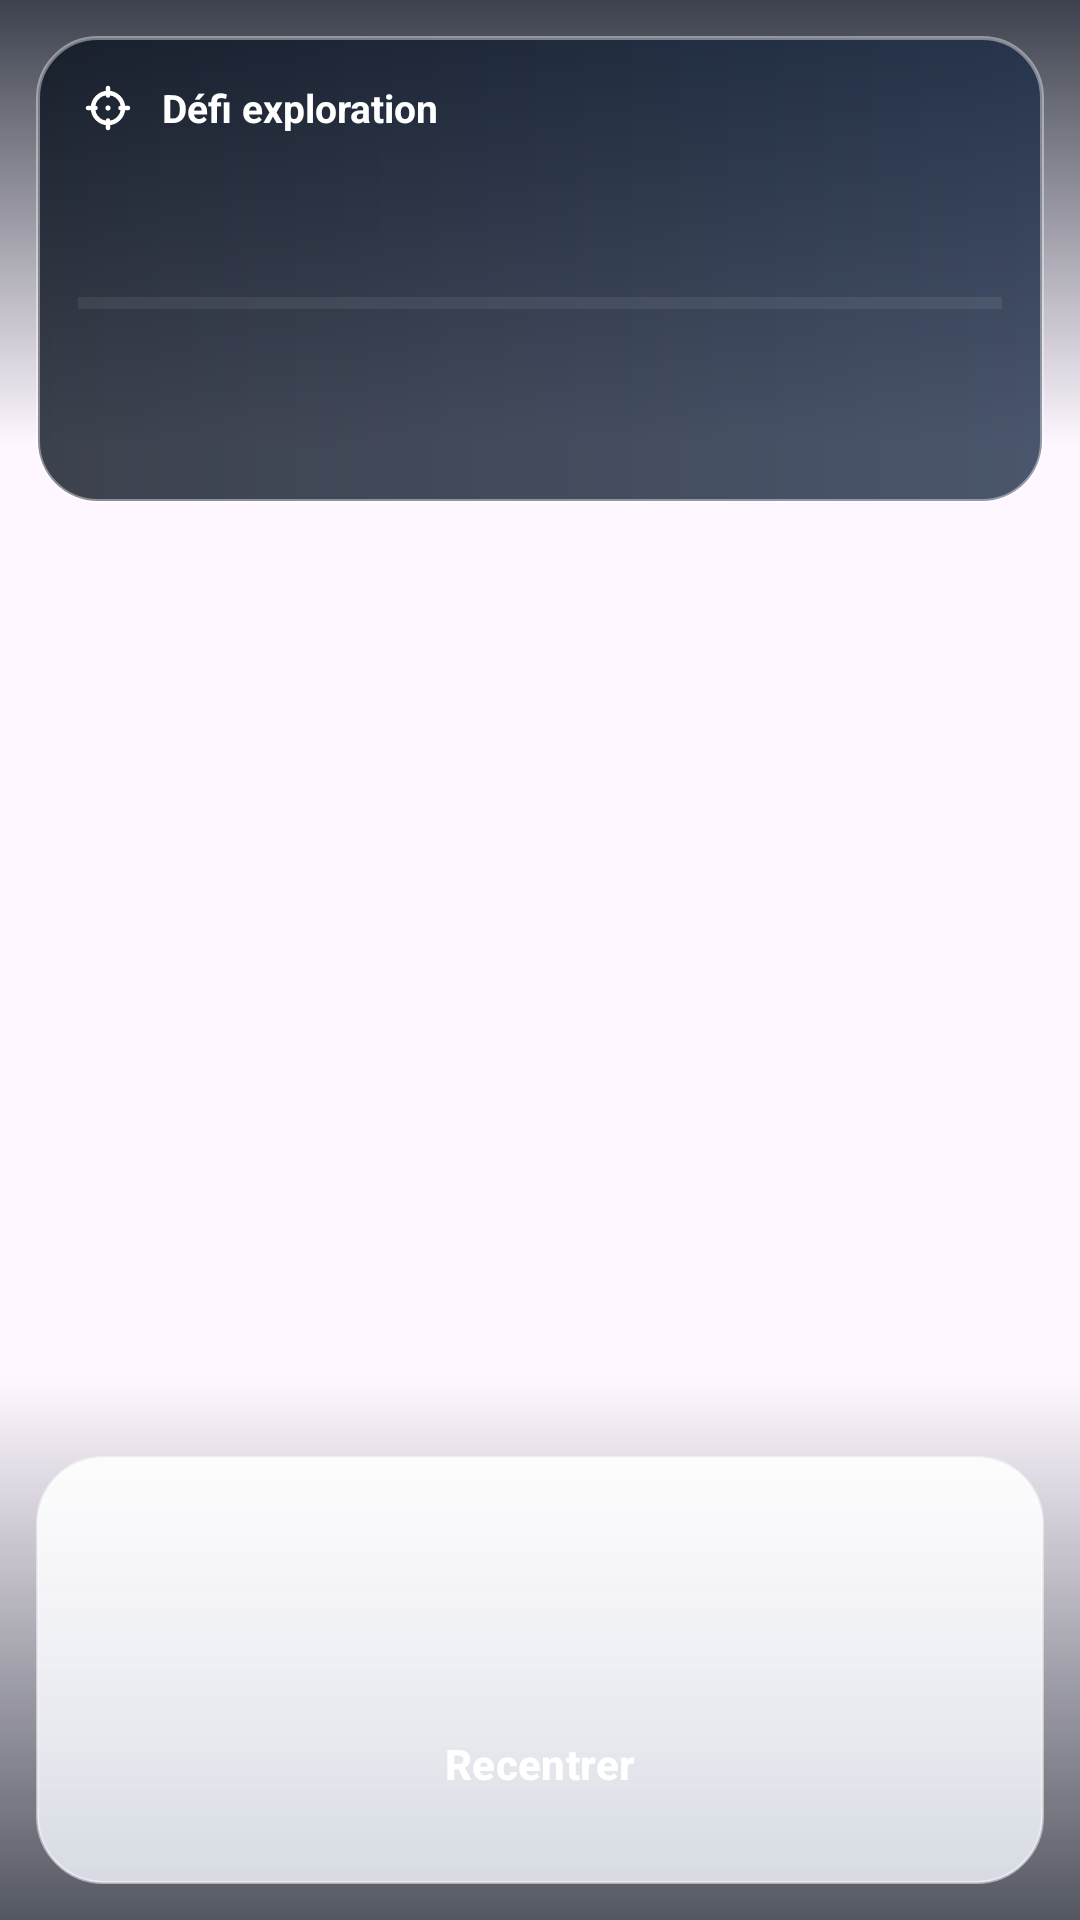

Icons on this 1080 × 1920 Android screen, each with the point to tap as point (x, y):
target line: point (107, 108)
